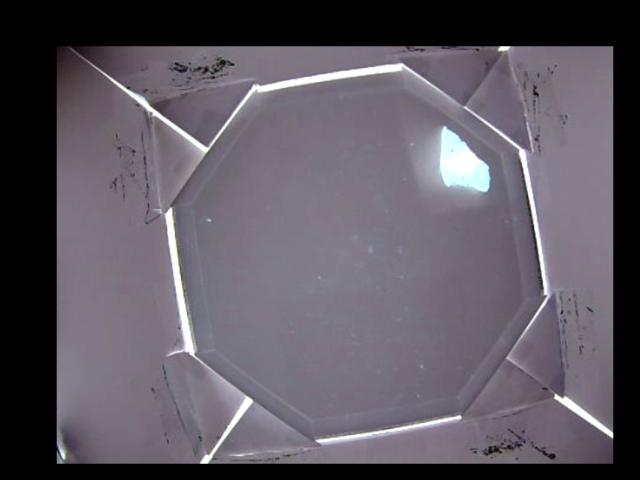Brisk: (442, 125, 489, 191)
